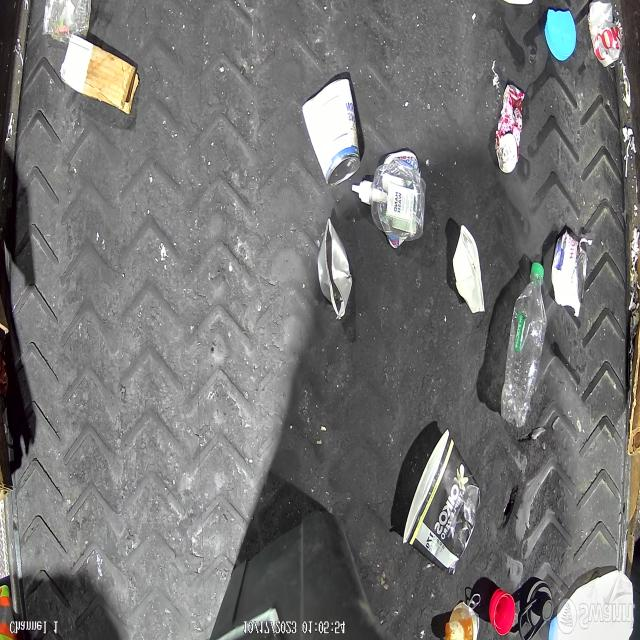can: (300, 77, 362, 188), (316, 218, 352, 320), (494, 83, 526, 173), (588, 0, 626, 70), (552, 232, 586, 310)
milk_jug: (549, 570, 634, 640)
plastic_bottle: (501, 262, 546, 428)
